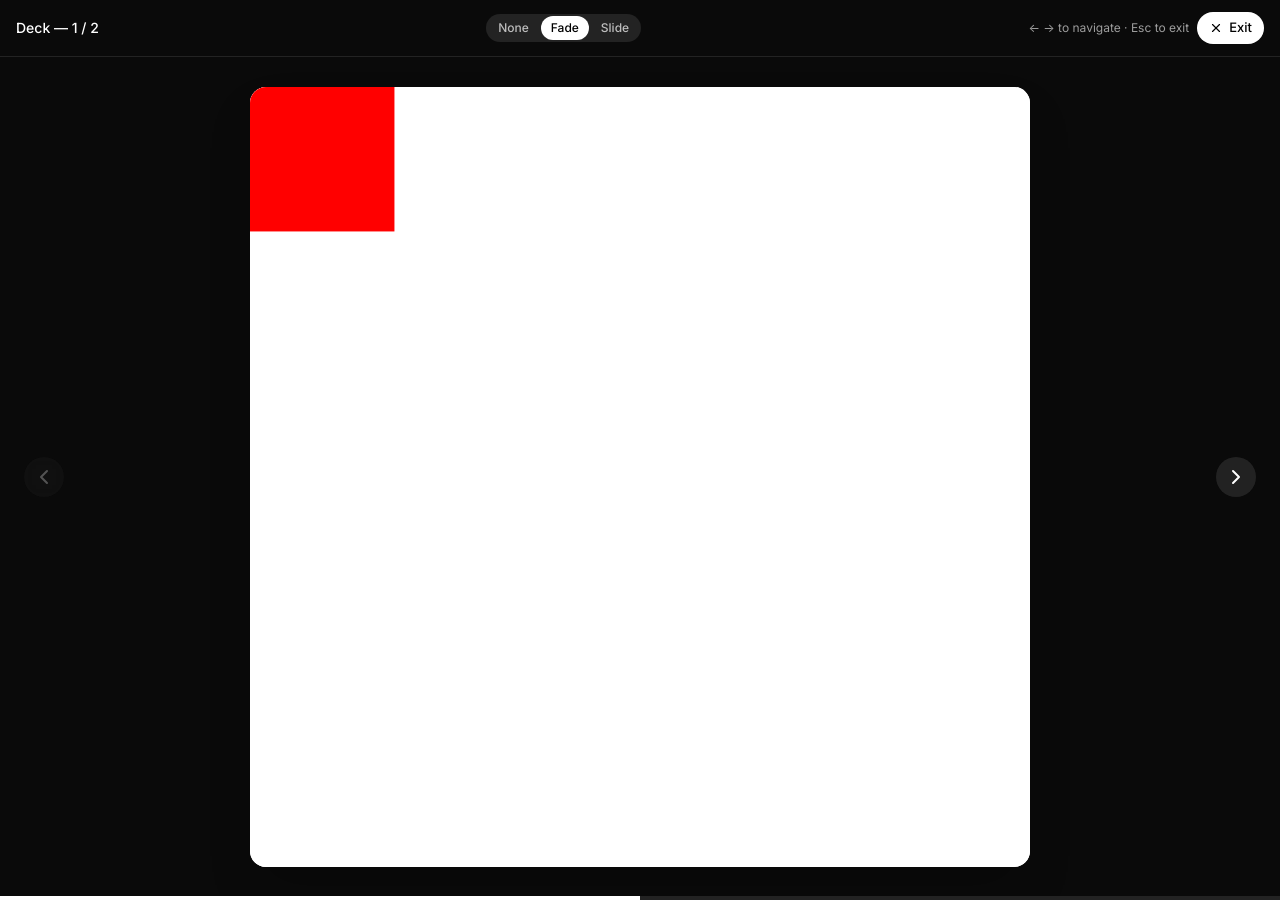
present mode › animates page changes with the chosen transition and remembers it
expect the text "Deck — 1 / 2" is shown: met, box [16,18,99,38]
Click the radio button labelled "Slide" at point(615, 28), box [591,16,639,40]
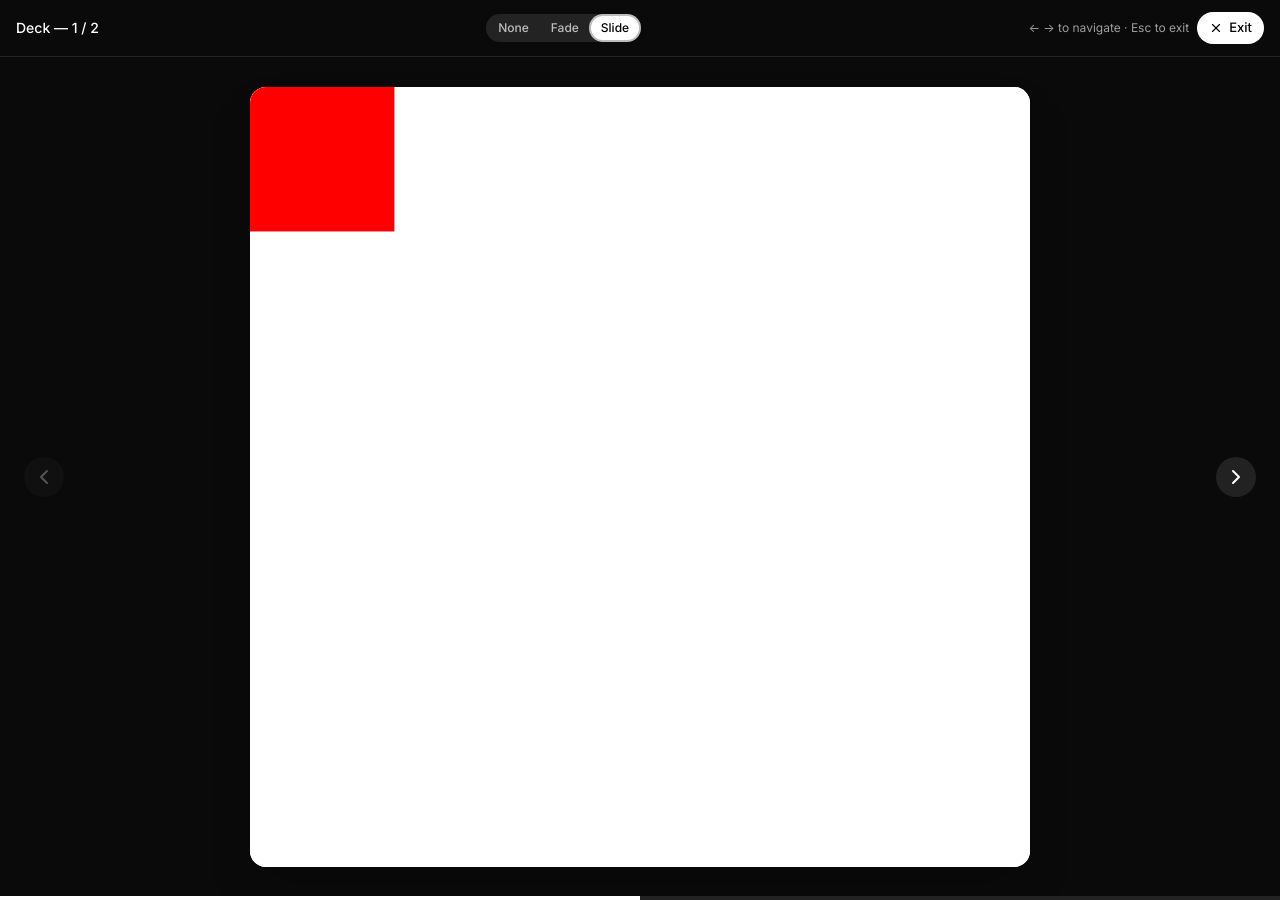
expect the radio button labelled "Slide" is checked: met, box [591,16,639,40]
Click the button named "Next page" at point(1236, 476), box [1216,456,1256,496]
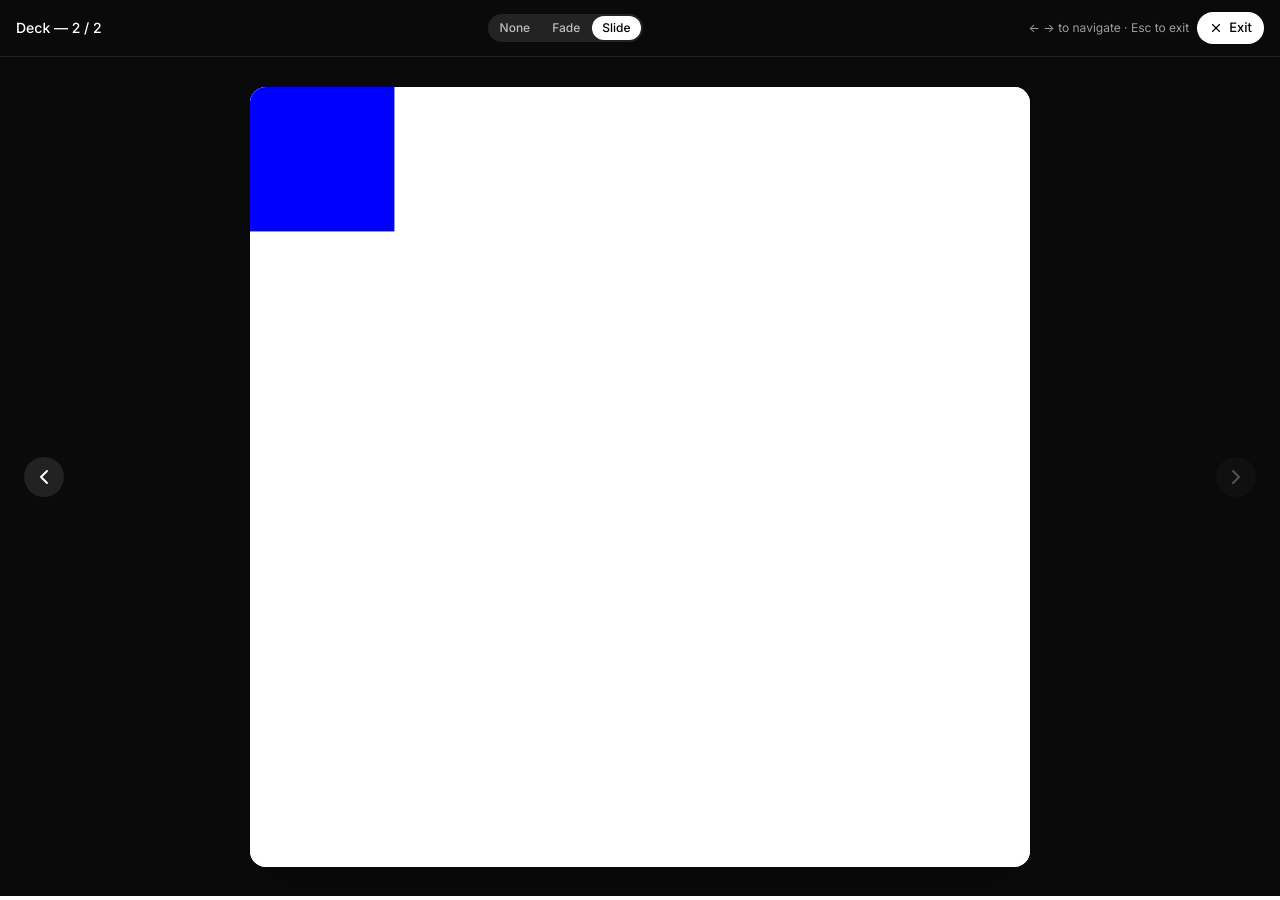
expect the element named "Deck" is shown: met, box [250,89,1030,864]
expect the text "Deck — 2 / 2" is shown: met, box [16,18,102,38]
Click the button named "Previous page" at point(44, 476), box [24,456,64,496]
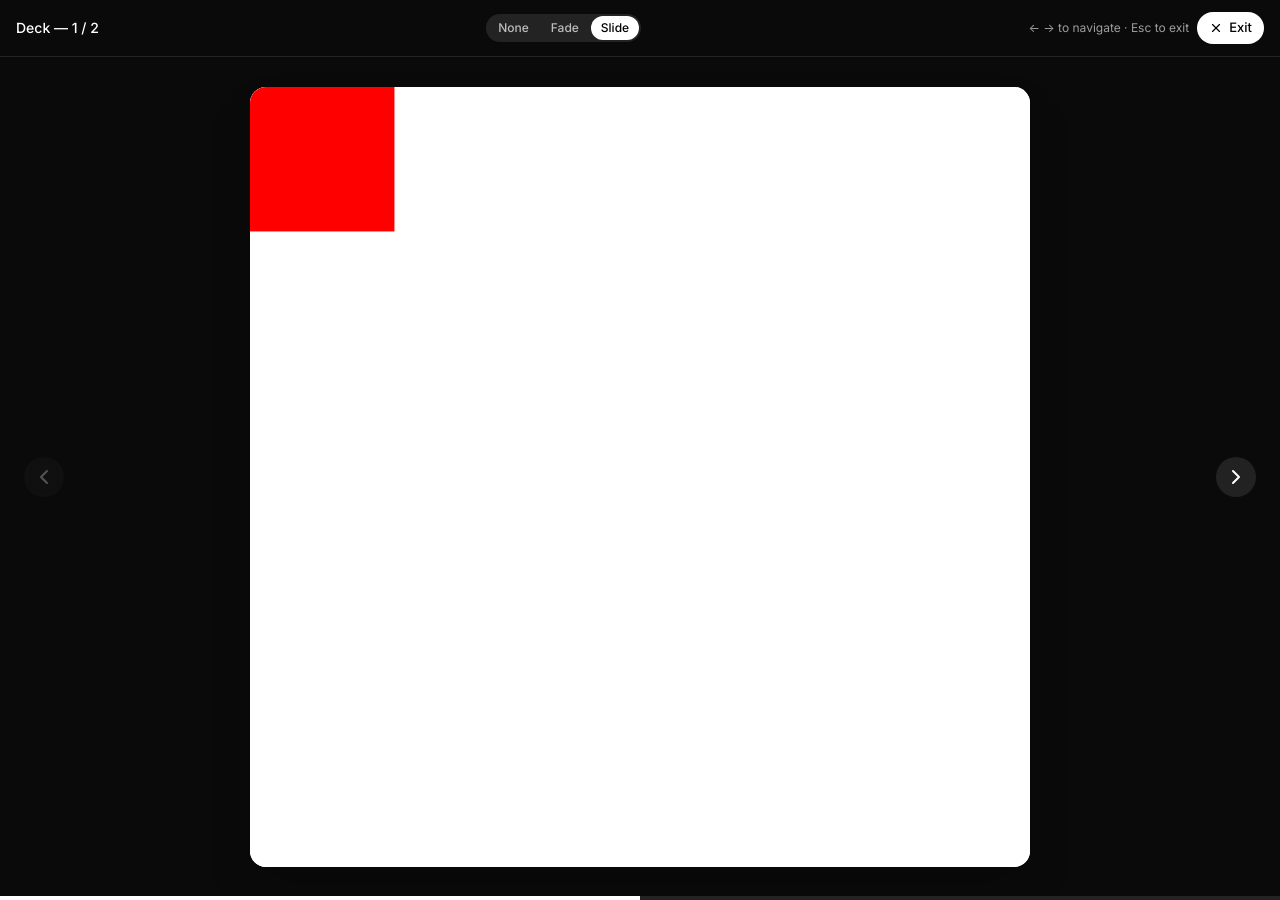
expect the element named "Deck" is shown: met, box [250,89,1030,864]
expect the text "Deck — 1 / 2" is shown: met, box [16,18,99,38]
